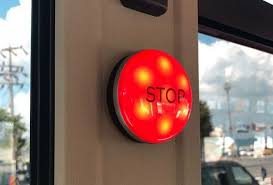bell: (105, 46, 195, 151)
